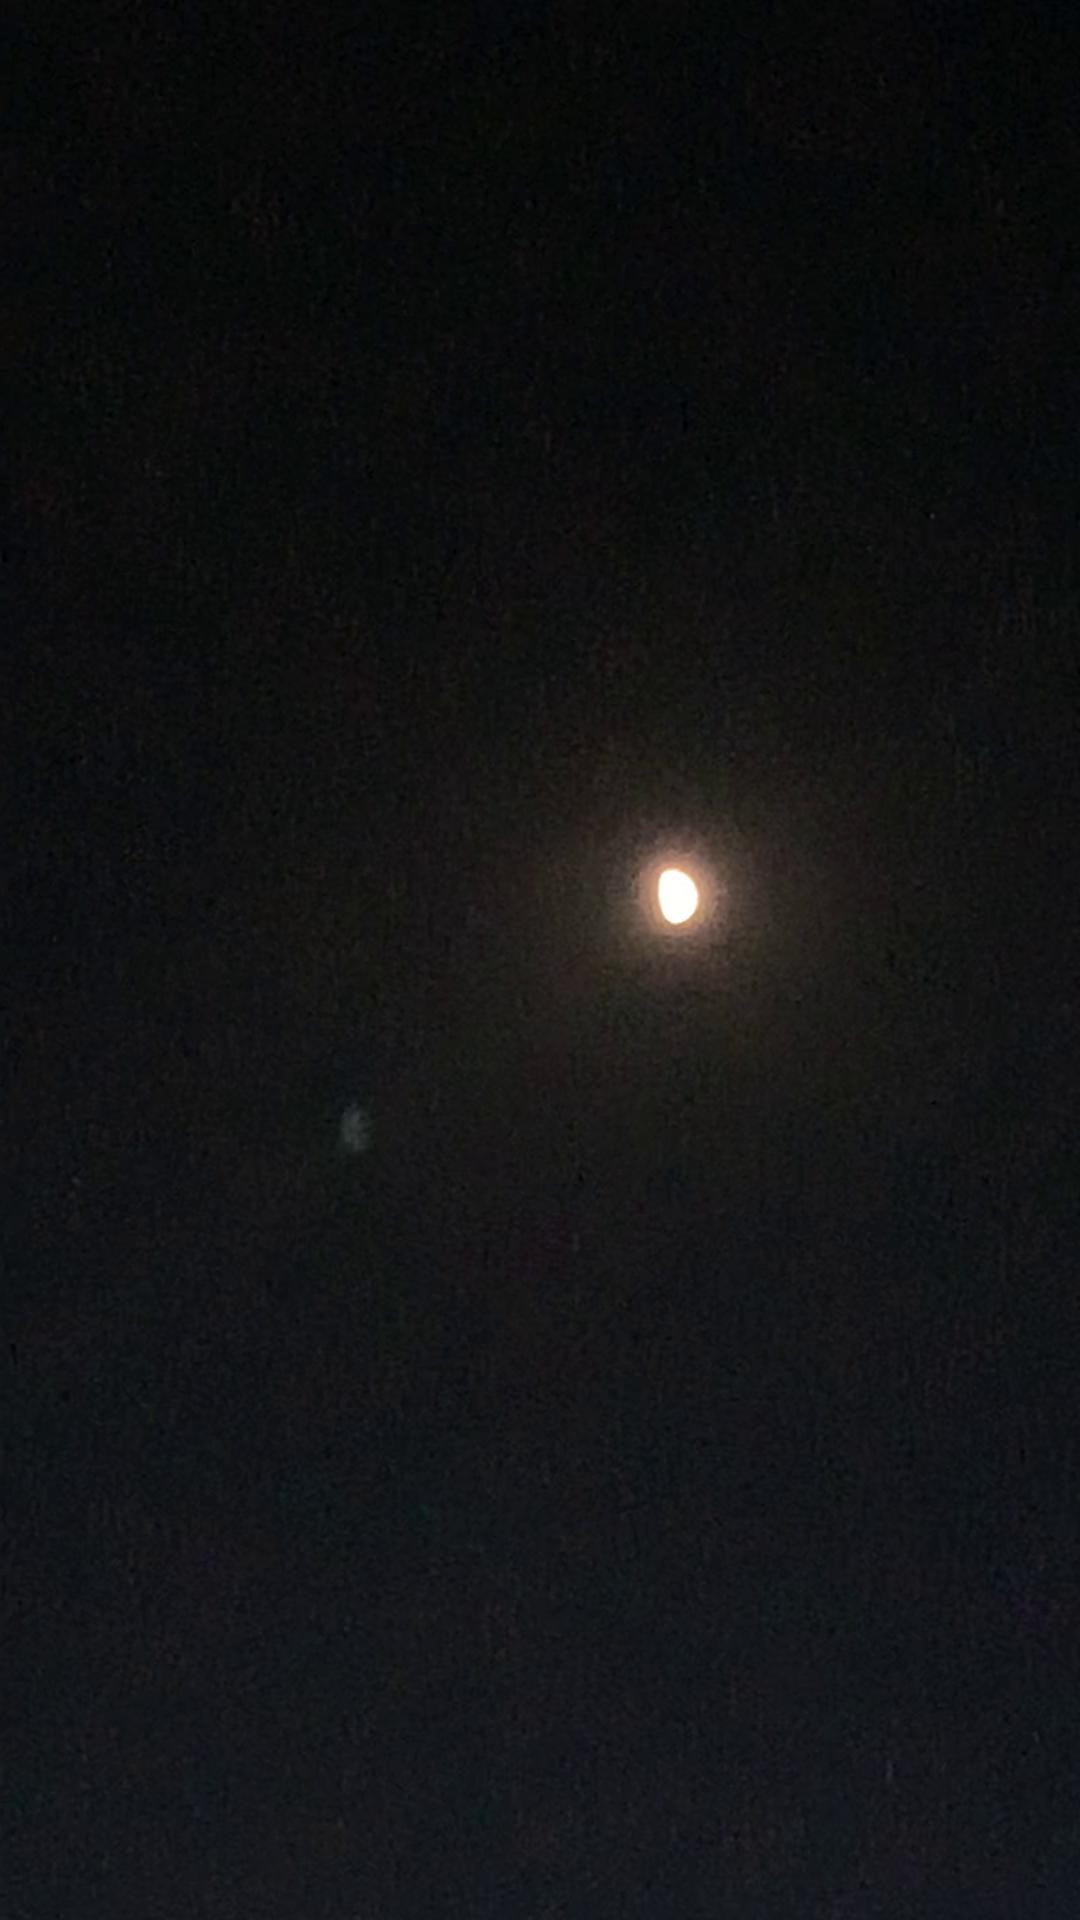moon: (630, 839, 723, 936)
